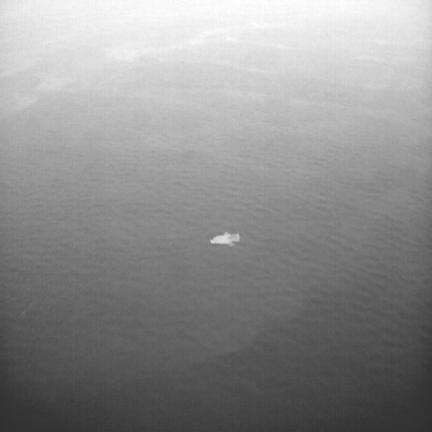flukeprints: (210, 232, 240, 246)
